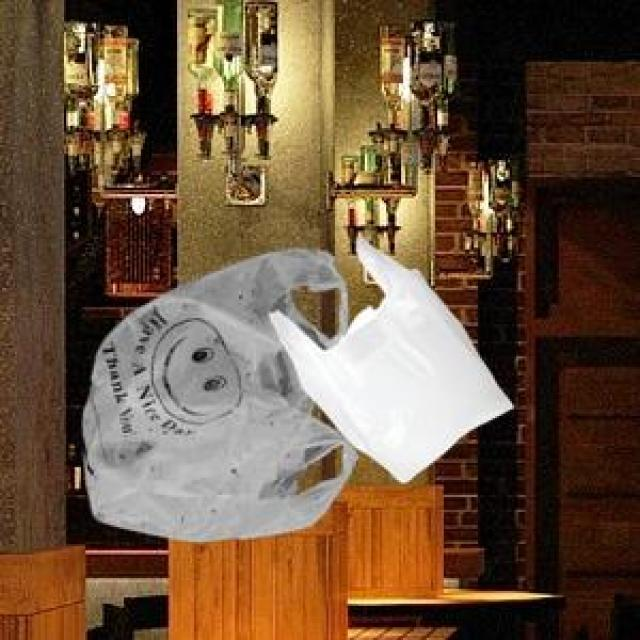plastic: (58, 232, 534, 538)
